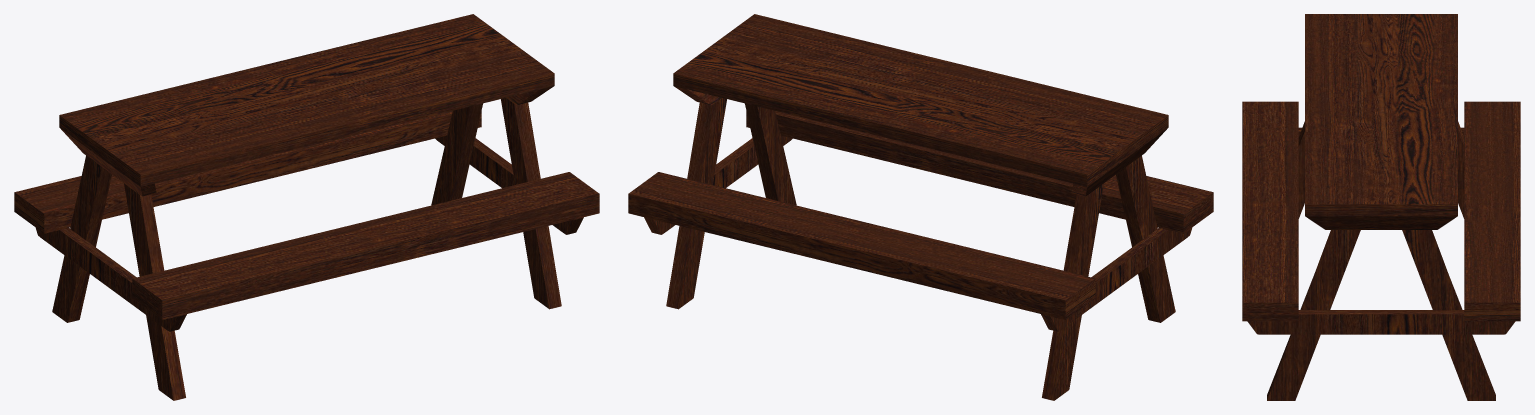
The model's file is MesaExtGrande.fbx.
3 views of the same model, side by side, from view 1: azimuth 30°, elevation 25°; view 2: azimuth 150°, elevation 25°; view 3: azimuth 270°, elevation 25° (orthographic). The views are drawn at different scales.
Parts seen in each view (by area): view 1: MesaExt2; view 2: MesaExt2; view 3: MesaExt2.
Part boxes in pixels (x1,y1,x2,y2): MesaExt2: [14, 14, 599, 400]; MesaExt2: [628, 14, 1213, 400]; MesaExt2: [1242, 14, 1520, 400].
Bounding box in the file's own units: 215 × 101 × 126.
